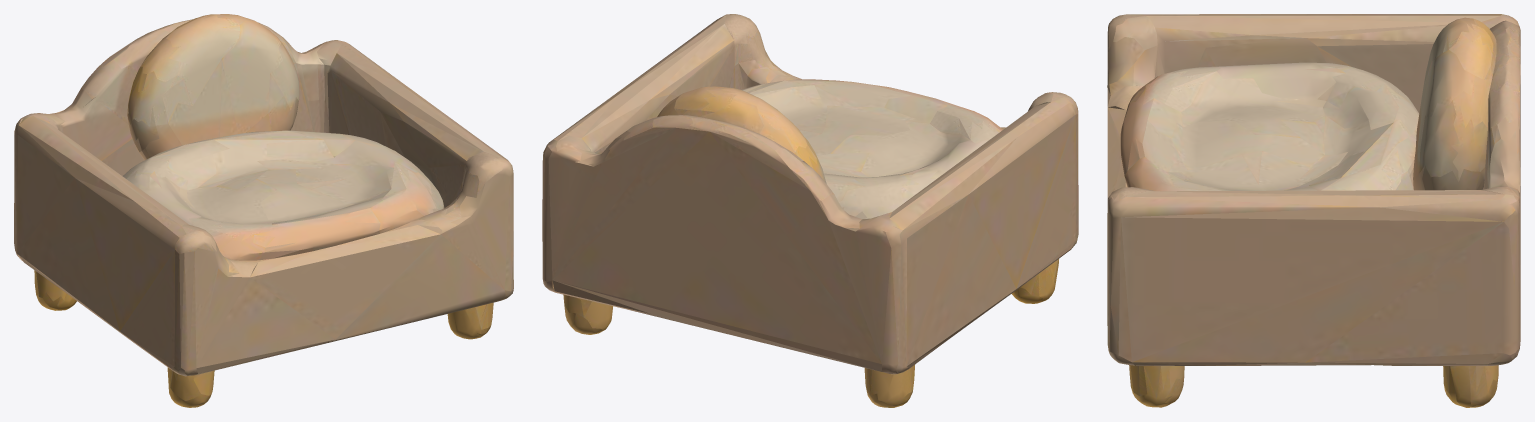
File: bed.f7f95330.glb
3 views of the same model, side by side, from view 1: azimuth 30°, elevation 25°; view 2: azimuth 150°, elevation 25°; view 3: azimuth 270°, elevation 25° (orthographic). The views are drawn at different scales.
Parts seen in each view (by area): view 1: output_unwrapped; view 2: output_unwrapped; view 3: output_unwrapped.
Boxes of the visible parts, bbox=[...] form: output_unwrapped: bbox=[14, 14, 513, 407]; output_unwrapped: bbox=[542, 14, 1078, 407]; output_unwrapped: bbox=[1107, 14, 1520, 407].
Bounding box in the file's own units: 1.9 × 1.37 × 1.71.
Materials: 1 (1 with a texture image).
